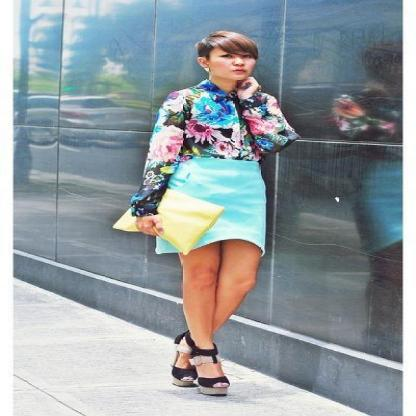bag: (112, 192, 224, 254)
shirt: (131, 78, 293, 216)
shoe: (172, 330, 228, 396)
skirt: (155, 155, 265, 255)
